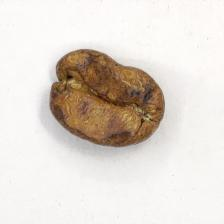NG: (52, 50, 155, 139)
